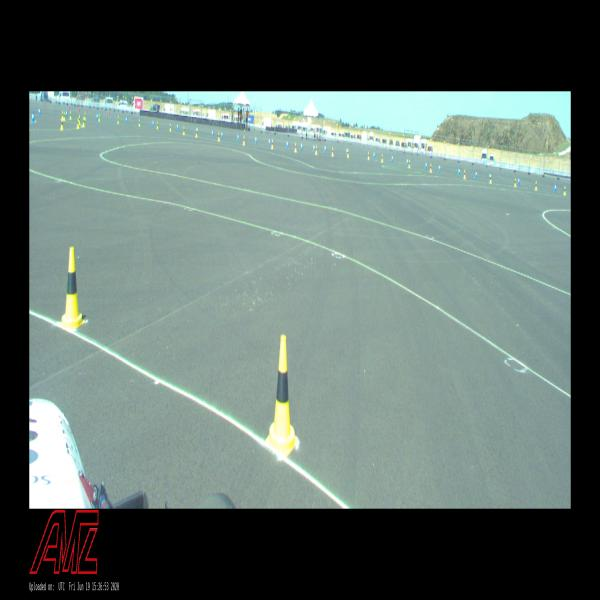blue_cone: (31, 112, 35, 122), (438, 163, 441, 172), (554, 183, 557, 192), (286, 140, 289, 148), (475, 170, 478, 178), (38, 108, 41, 115), (211, 130, 214, 137), (237, 133, 239, 142), (425, 161, 427, 170), (406, 157, 408, 166), (255, 136, 257, 144), (300, 142, 302, 150), (458, 167, 460, 175), (518, 177, 520, 185), (221, 130, 223, 138), (391, 154, 393, 162), (324, 144, 326, 152), (268, 138, 270, 146), (66, 110, 68, 118), (313, 143, 315, 151), (152, 120, 154, 127), (96, 113, 98, 120), (373, 152, 375, 159), (176, 124, 178, 130), (126, 116, 127, 123), (197, 127, 198, 133), (346, 148, 347, 154)
yellow_cone: (264, 336, 298, 460), (59, 247, 86, 329), (60, 118, 63, 130), (489, 173, 492, 184), (271, 139, 274, 149), (367, 150, 370, 160), (463, 169, 466, 179), (78, 114, 81, 124), (294, 143, 297, 152), (429, 164, 432, 173), (331, 147, 334, 156), (563, 186, 566, 195), (315, 146, 318, 155), (77, 118, 79, 129), (83, 116, 85, 127), (243, 135, 245, 145), (535, 180, 537, 190), (408, 159, 410, 168), (381, 153, 383, 162), (218, 132, 220, 141), (183, 126, 185, 134), (514, 178, 516, 186), (70, 111, 72, 119), (170, 123, 172, 131), (84, 112, 86, 120), (196, 129, 198, 137), (347, 149, 349, 157), (62, 111, 64, 119), (64, 112, 66, 120), (118, 116, 120, 123), (98, 114, 100, 121), (138, 120, 140, 126), (157, 122, 158, 128)
